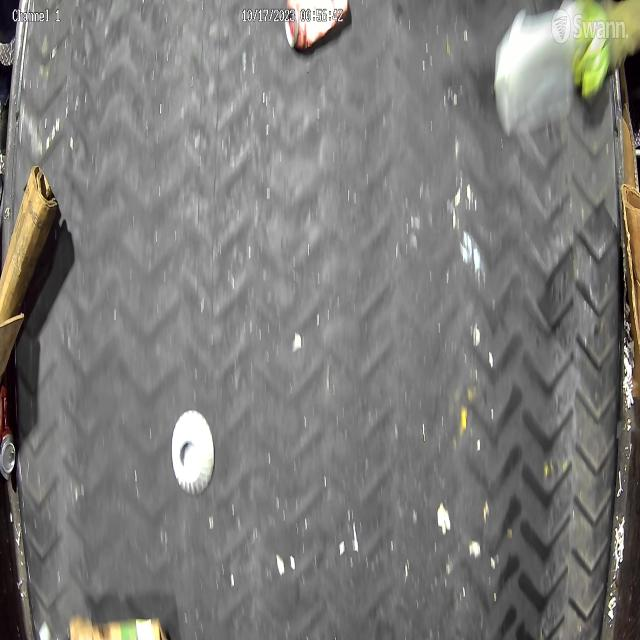can: (0, 385, 16, 480)
